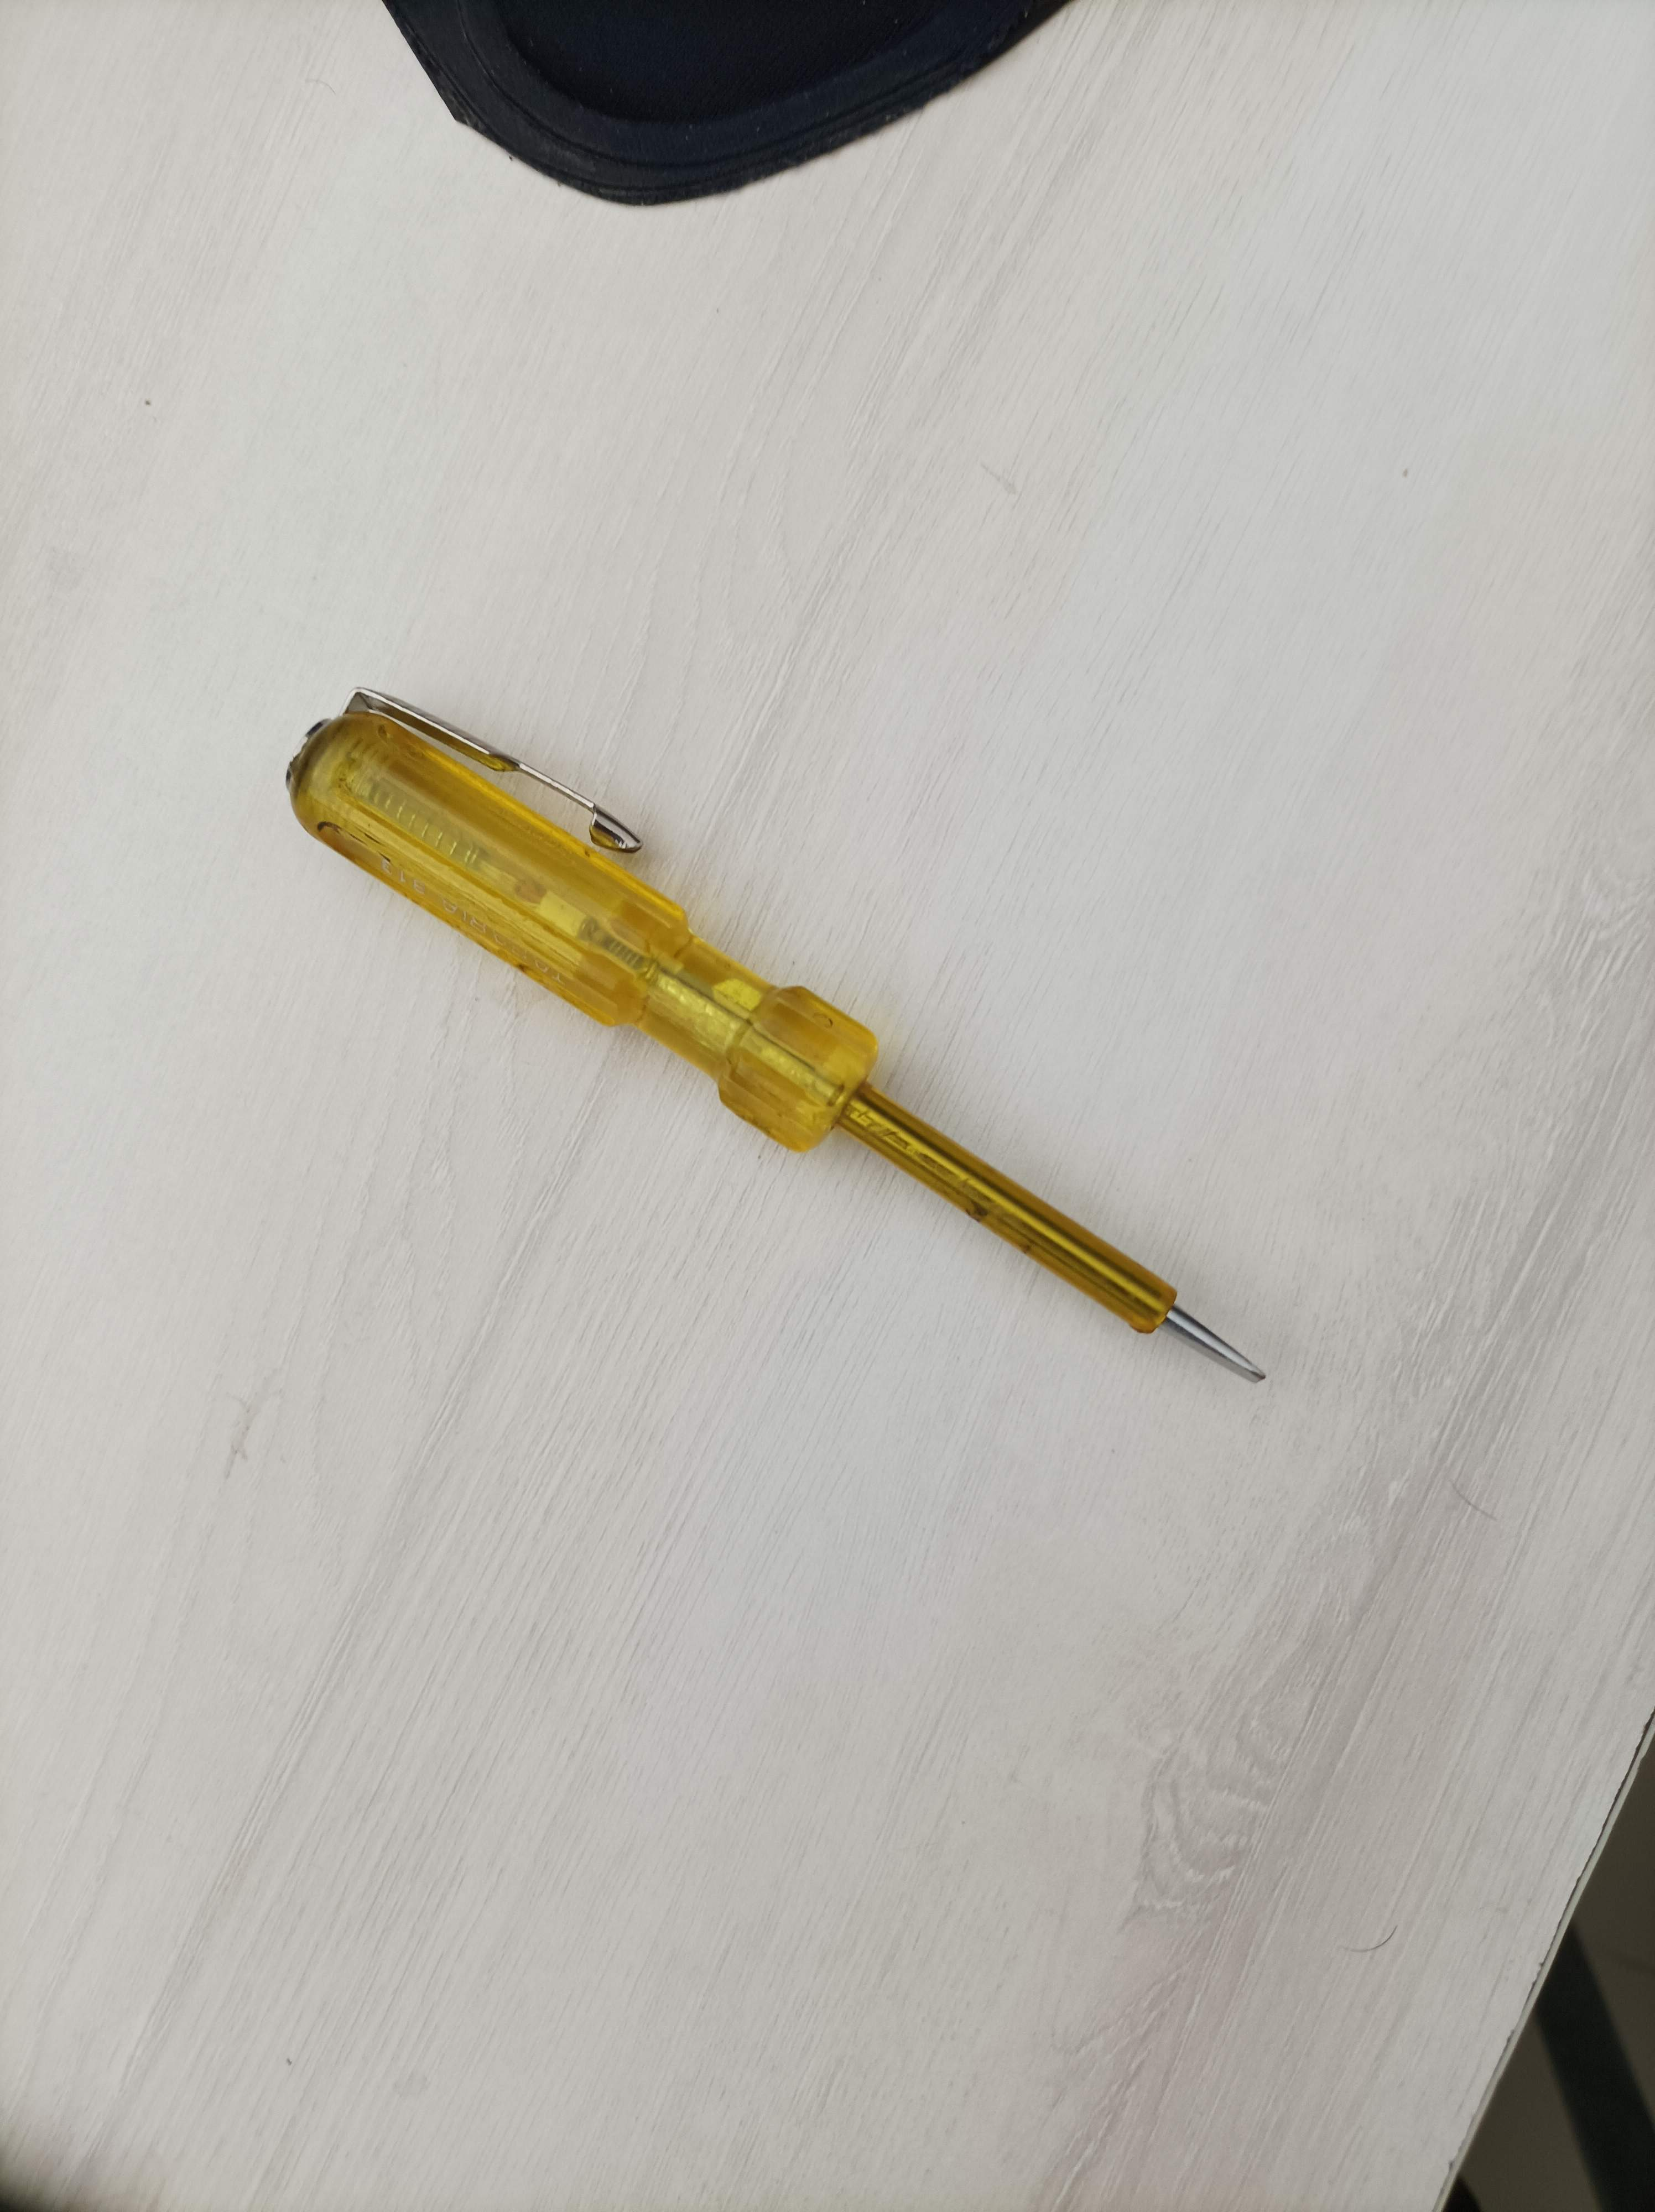screwdriver: (275, 674, 1293, 1409)
